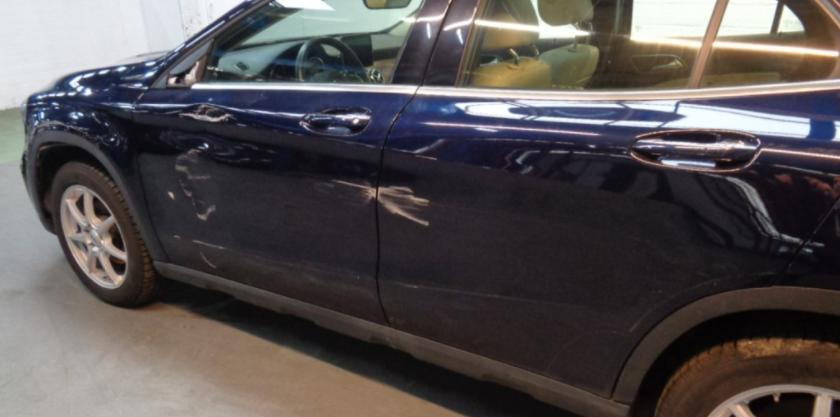Back-door: (377, 0, 839, 401)
Back-wheel: (652, 323, 839, 416)
Back-window: (458, 1, 717, 90), (699, 0, 840, 88)
Fender: (23, 102, 170, 264)
Front-bumper: (19, 153, 32, 203)
Front-door: (132, 0, 451, 328)
Front-wheel: (50, 155, 173, 310)
Front-window: (200, 0, 427, 84)
Headlight: (20, 98, 28, 125)
Hood: (27, 51, 171, 111)
Mirror: (154, 38, 215, 88)
Quarter-panel: (612, 198, 839, 405)
Rocker-panel: (153, 259, 633, 416)
